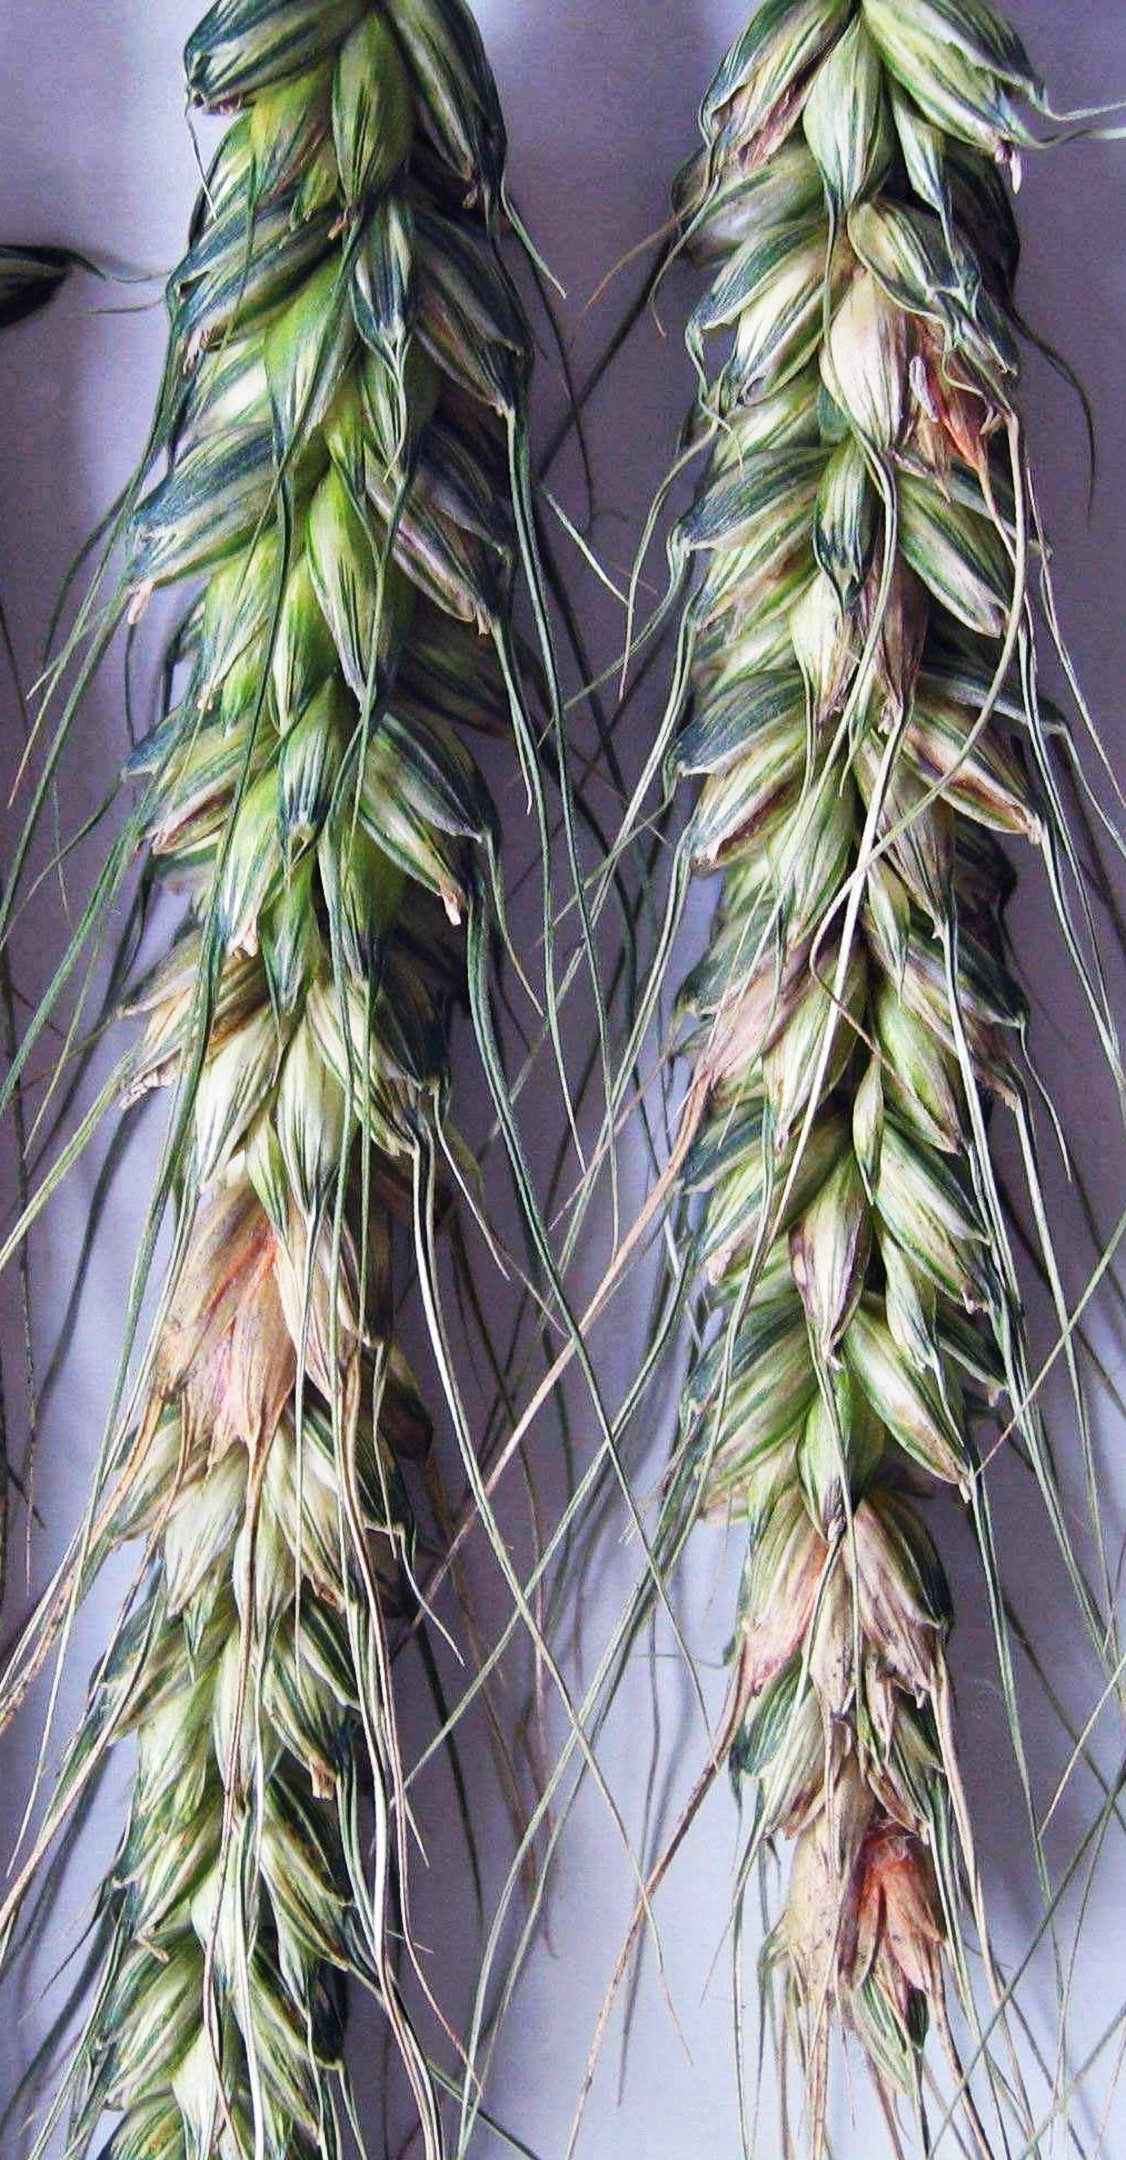Wheat scab: (602, 26, 1126, 2001), (64, 26, 483, 2139)
